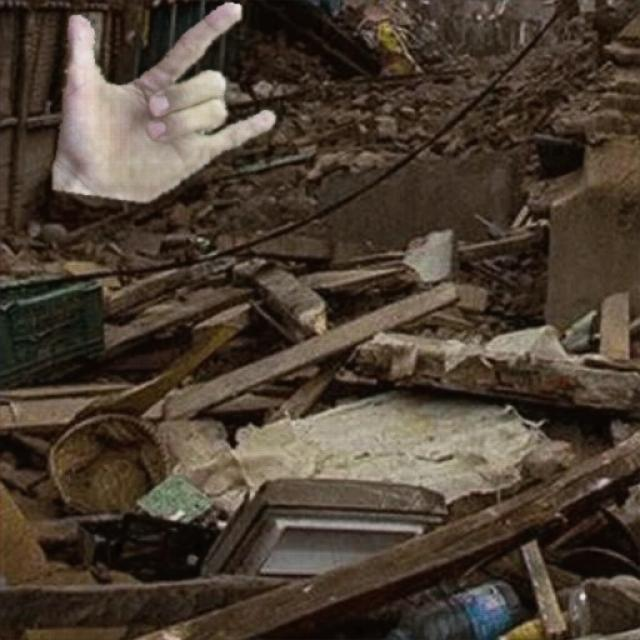Person in Rubble: (52, 2, 276, 202)
